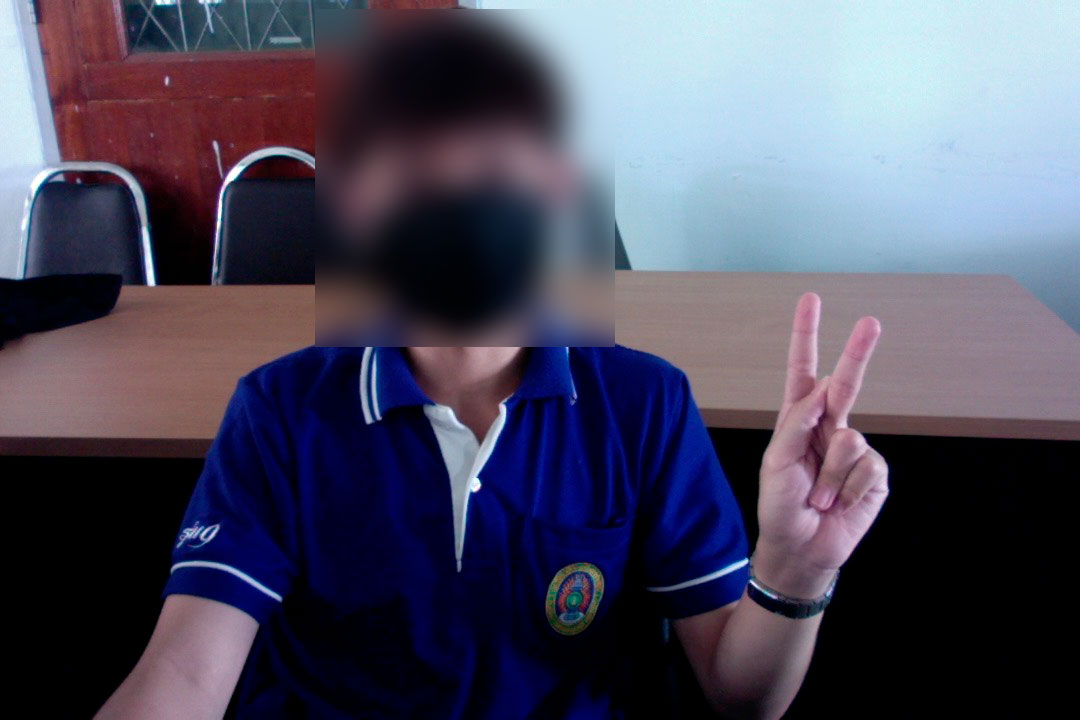ko: (735, 283, 896, 579)
